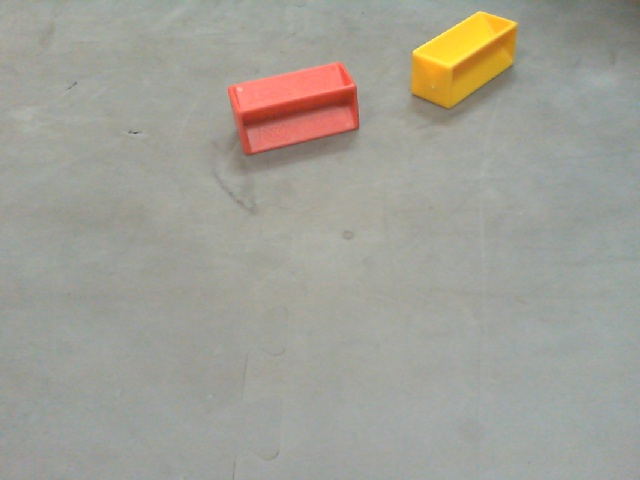RedSample: (230, 62, 359, 162)
YellowSample: (408, 5, 519, 108)
